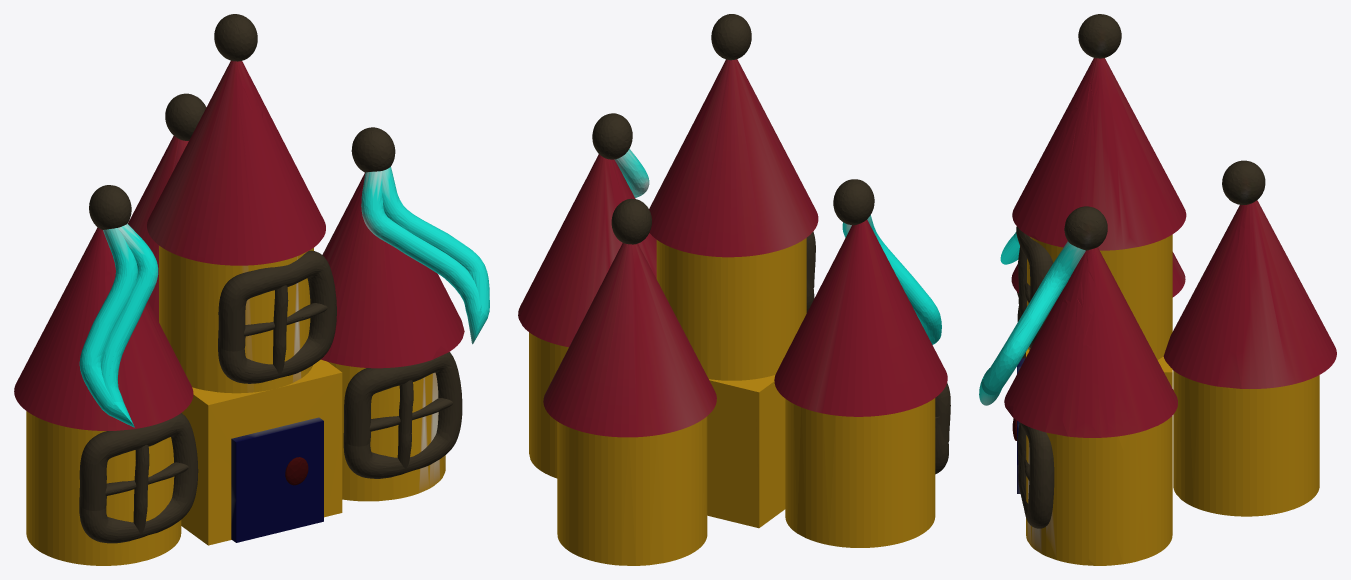
Rendered from Castillo.glb.
The picture shows the model from 3 angles, left to right: view 1: azimuth 30°, elevation 25°; view 2: azimuth 150°, elevation 25°; view 3: azimuth 270°, elevation 25°; orthographic projection. The views are drawn at different scales.
Visible parts, largest first — view 1: Sphere_1; view 2: Sphere_1; view 3: Sphere_1.
Part boxes in pixels (left/top/right/bottom): Sphere_1: left=14, top=14, right=489, bottom=565; Sphere_1: left=518, top=14, right=950, bottom=565; Sphere_1: left=979, top=14, right=1336, bottom=565.
Size of the model in its own units: 102951 by 113157 by 80017.
